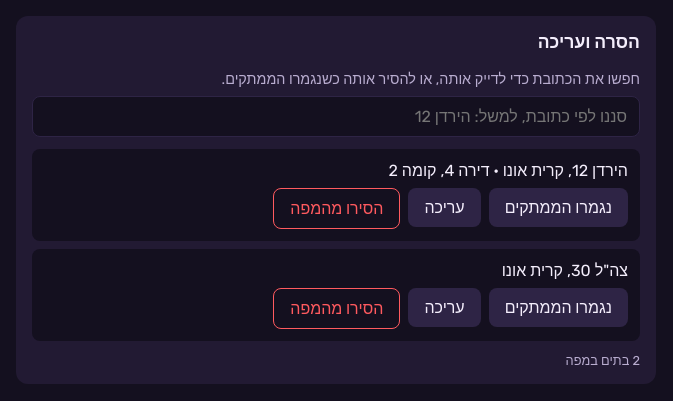
HouseList › asks to confirm before removing
Type "צהל" into the dropdown named "חפשו כתובת" at (336, 116), box [32,96,640,137]
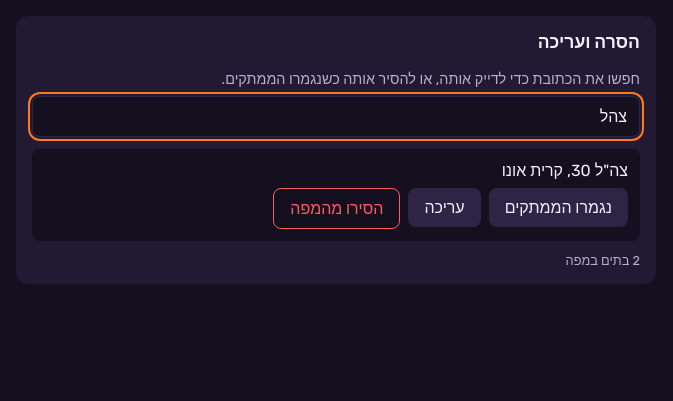
Click the button "הסירו מהמפה" at (337, 208), box [273,188,400,229]
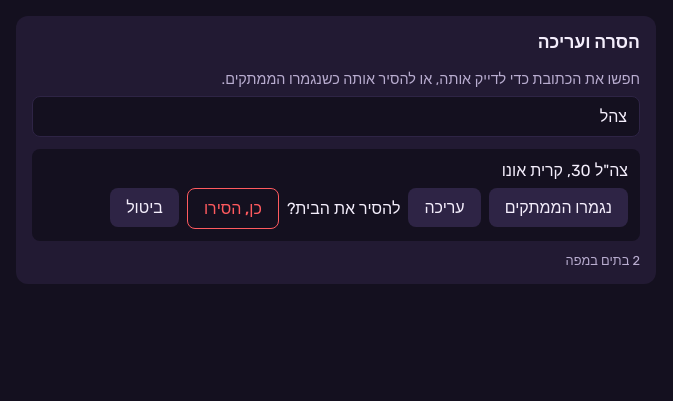
Click the button "ביטול" at (144, 207), box [110,188,179,227]
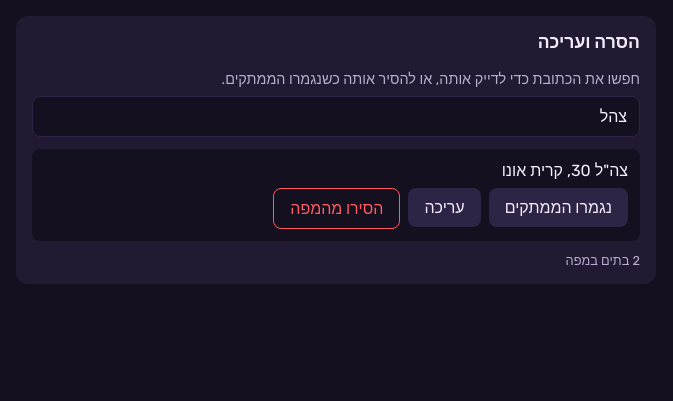
Result: the button "הסירו מהמפה" is shown at [273,188,400,229]
